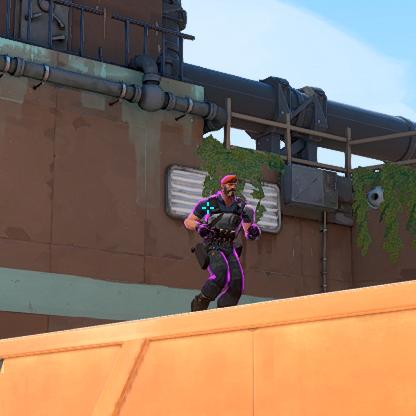enemyBody: (210, 200, 238, 232)
enemyHead: (223, 181, 235, 196)
